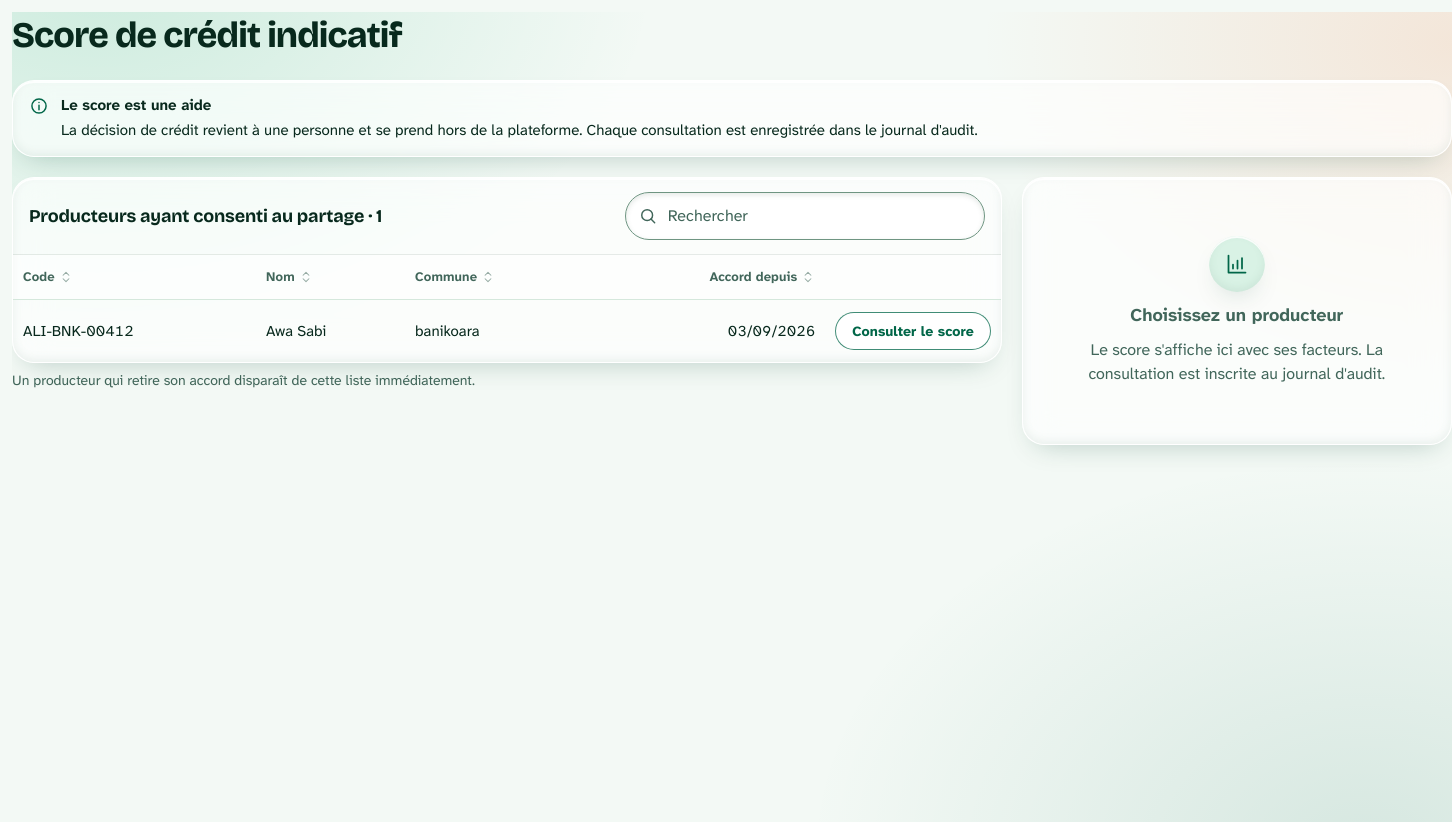
Score de crédit › liste les producteurs ayant consenti, puis affiche le score et ses facteurs
Check: the text "ALI-BNK-00412" is shown, box [23,321,134,341]
Check: the text "03/09/2026" is shown, box [591,300,825,362]
Click the button "Consulter le score" at (913, 331), box [835,312,991,350]
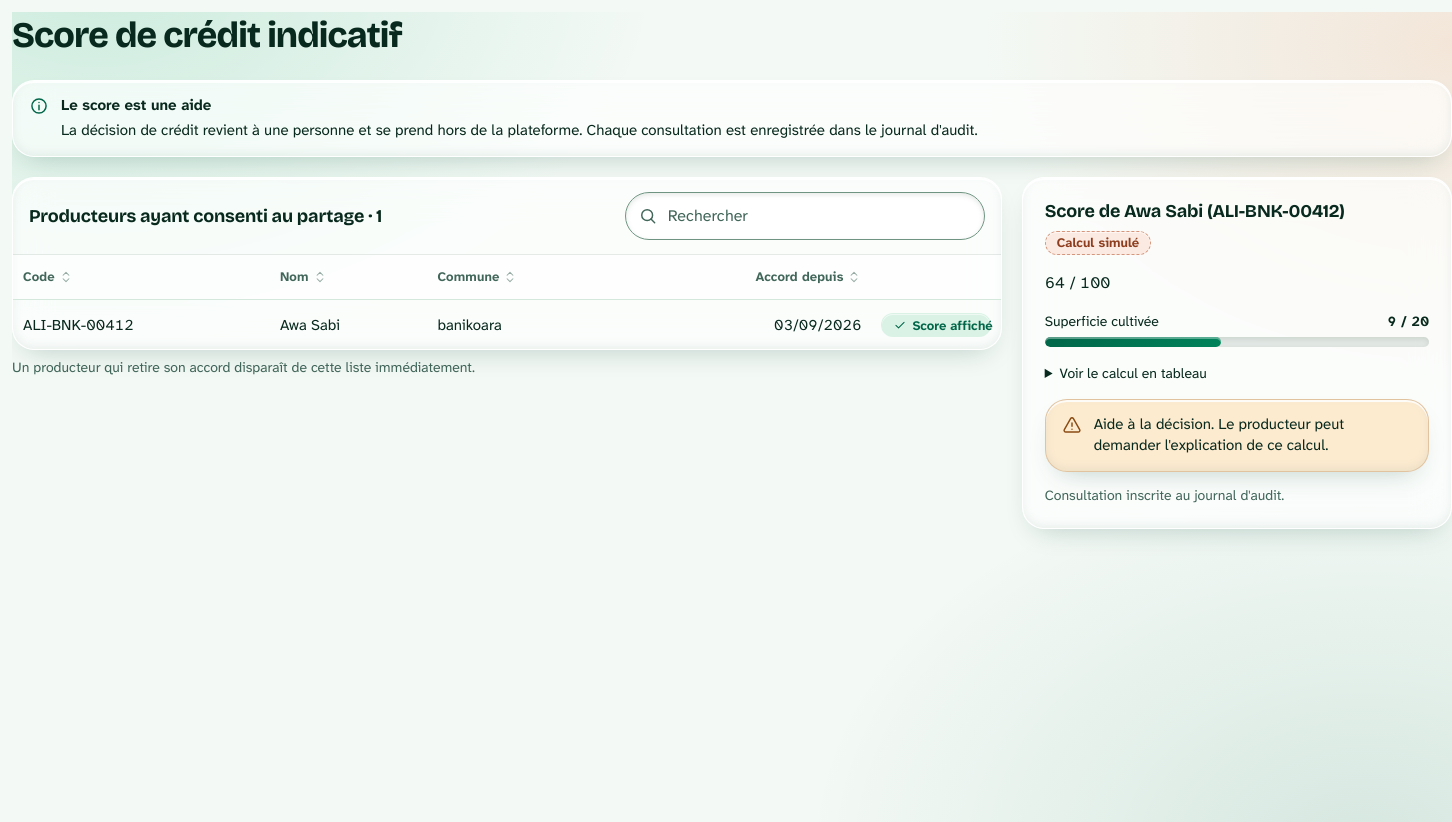
Check: the text "64 / 100" is shown, box [1045,272,1110,293]
Check: the text "9 / 20" is shown, box [1388,309,1429,333]
Check: the text "Score affiché" is shown, box [881,313,991,337]
